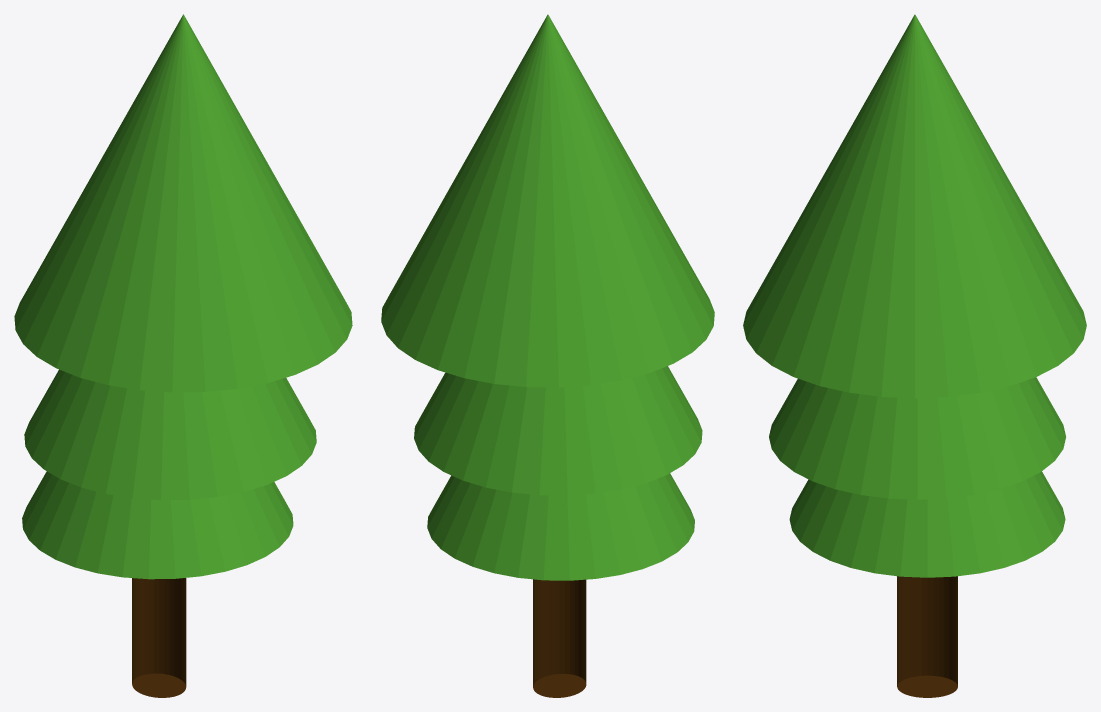
File: POHON 2 TAMBANG.fbx
The picture shows the model from 3 angles, left to right: view 1: azimuth 30°, elevation 25°; view 2: azimuth 150°, elevation 25°; view 3: azimuth 270°, elevation 25°; orthographic projection. The views are drawn at different scales.
Parts seen in each view (by area): view 1: Plane.065, Plane.064, Plane.066, POHON 1; view 2: Plane.065, Plane.064, Plane.066, POHON 1; view 3: Plane.065, Plane.064, Plane.066, POHON 1.
Part boxes in pixels (x1,y1,x2,y2): Plane.065: (14,14,352,392); Plane.064: (24,369,316,500); Plane.066: (22,471,293,579); POHON 1: (132,578,186,697); Plane.065: (381,14,714,387); Plane.064: (414,366,702,495); Plane.066: (427,473,694,580); POHON 1: (533,579,586,697); Plane.065: (743,14,1086,398); Plane.064: (769,377,1065,499); Plane.066: (789,471,1065,577); POHON 1: (897,576,957,697).
Bounding box in the file's own units: 2097 × 4587 × 2097.
